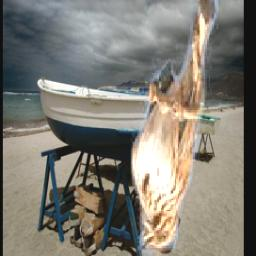Sparrow: (130, 0, 217, 256)
